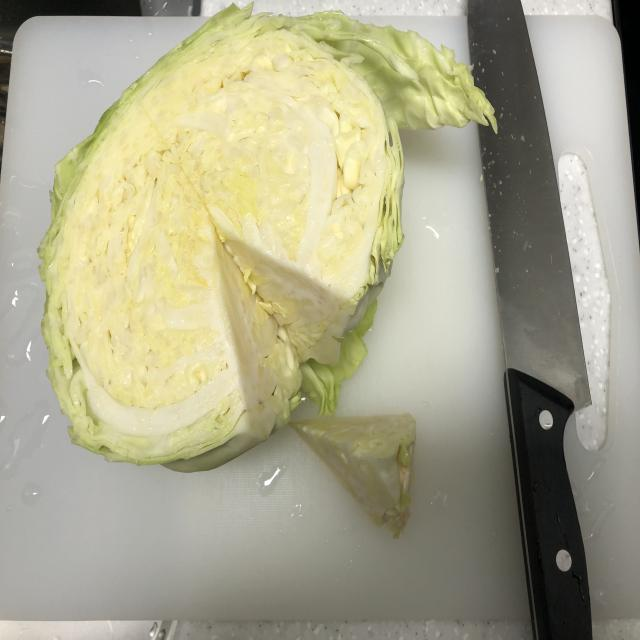cabbage: (37, 2, 407, 468)
